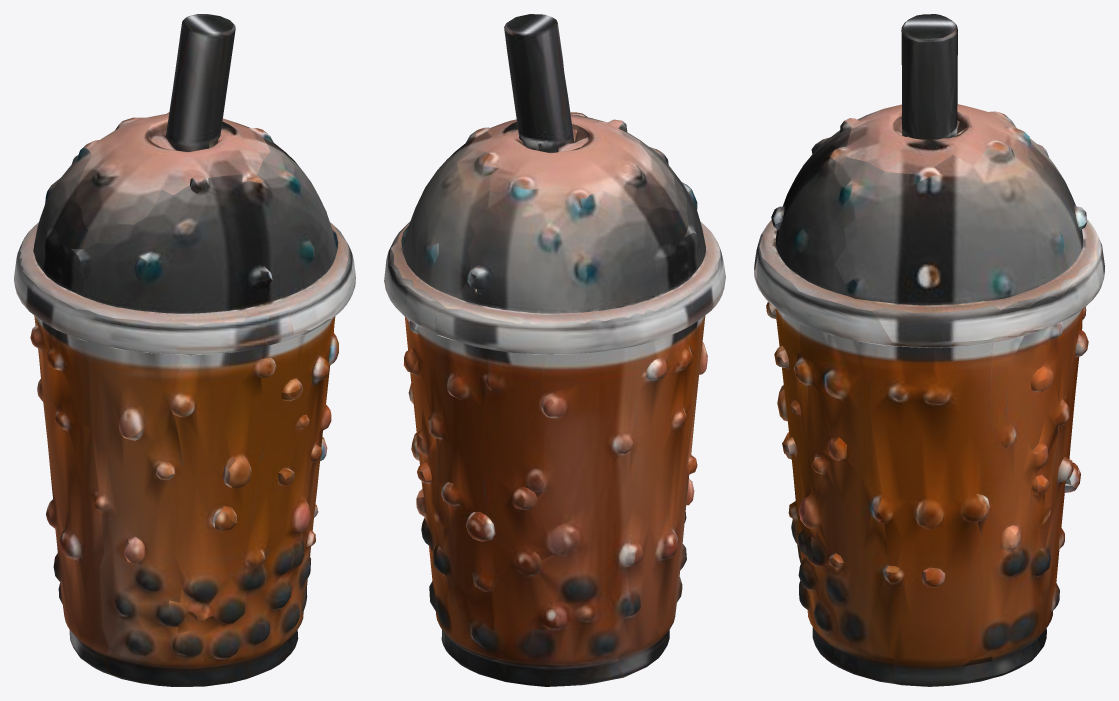
The model's file is naiwa_teacup.glb.
The picture shows the model from 3 angles, left to right: view 1: azimuth 30°, elevation 25°; view 2: azimuth 150°, elevation 25°; view 3: azimuth 270°, elevation 25°; orthographic projection. The views are drawn at different scales.
Parts seen in each view (by area): view 1: geometry_0; view 2: geometry_0; view 3: geometry_0.
Part boxes in pixels (box(x1,y1,x2,y2)): geometry_0: box(14, 14, 355, 686); geometry_0: box(384, 14, 725, 686); geometry_0: box(754, 14, 1104, 686).
Bounding box in the file's own units: 0.0903 × 0.18 × 0.0912.
1 material, 1 textured.
